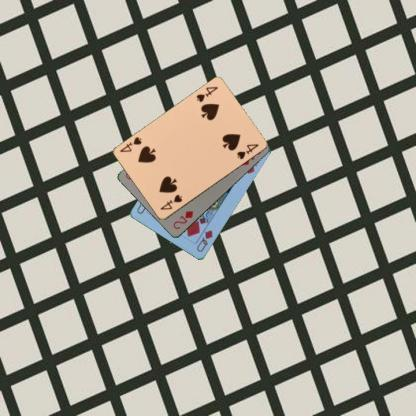2d: (170, 208, 195, 230)
4s: (194, 84, 219, 104), (158, 192, 184, 211)
Qd: (194, 228, 214, 254)
